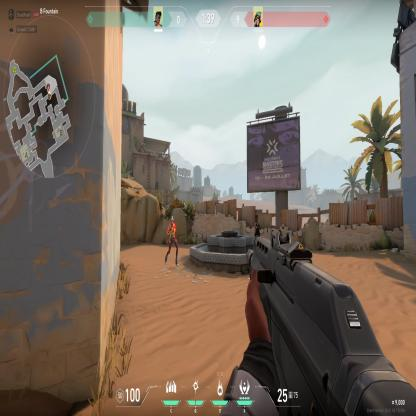enemy: (164, 214, 180, 268)
